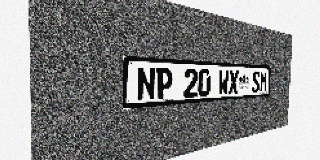0: (198, 69, 210, 97)
2: (184, 68, 198, 98)
M: (259, 71, 267, 92)
N: (137, 66, 155, 101)
P: (156, 67, 172, 100)
S: (252, 71, 260, 93)
W: (218, 70, 229, 95)
X: (228, 70, 239, 94)
